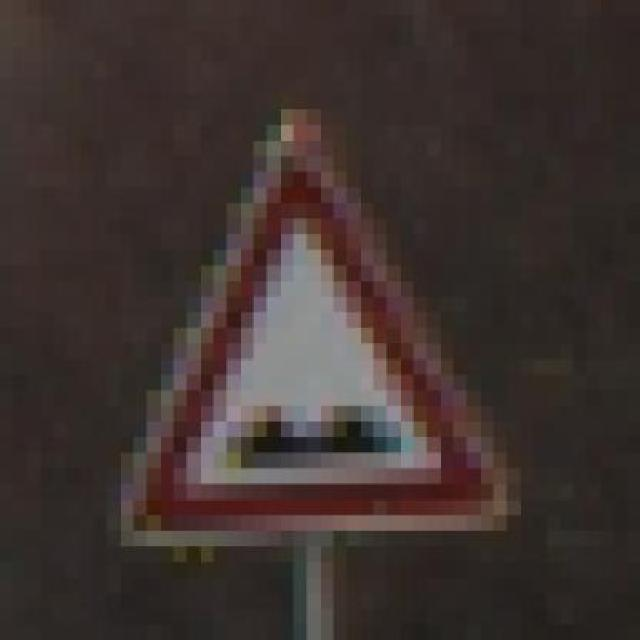Uneven Road: (80, 78, 520, 562)
